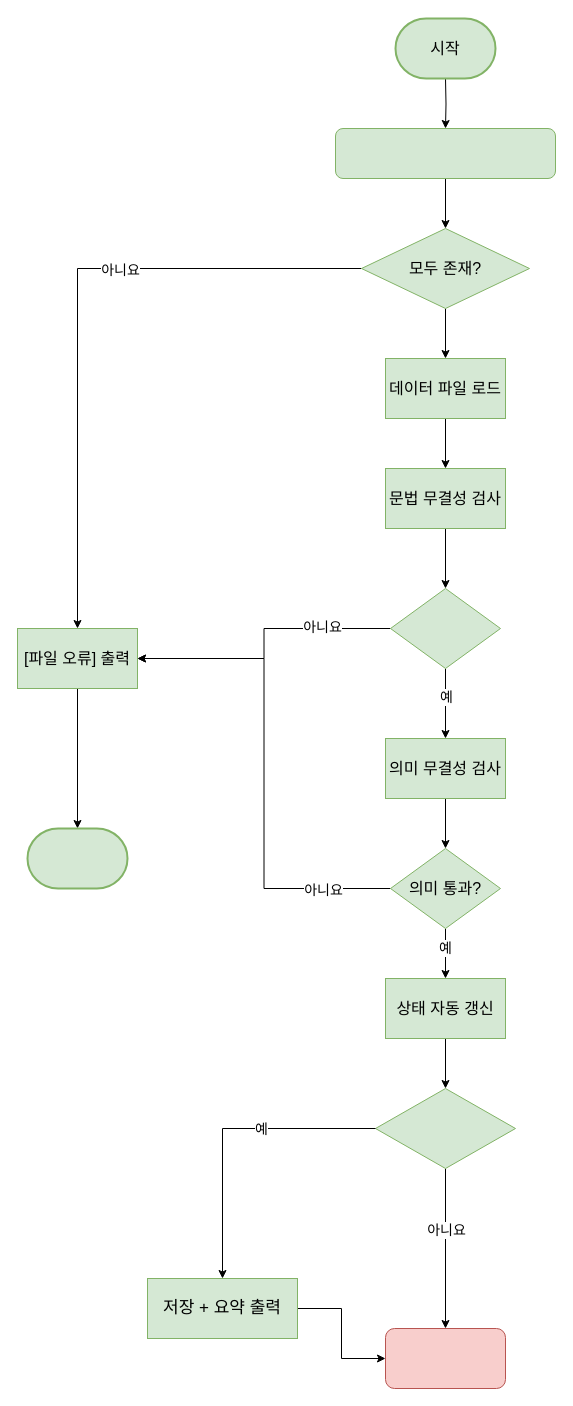
Some shapes in this 573 by 1406 pixel diagram are drawn without their labels. The shapes that lost their labels are listed below. From the top down, each one's centre as x and y in pixels, then its label:
At (x=445, y=153): "data/ 폴더, 필수 파일 존재 확인".
At (x=445, y=628): "문법 통과?".
At (x=77, y=858): "종료".
At (x=445, y=1128): "상태 변화 있음?".
At (x=445, y=1358): "Auth 흐름".
